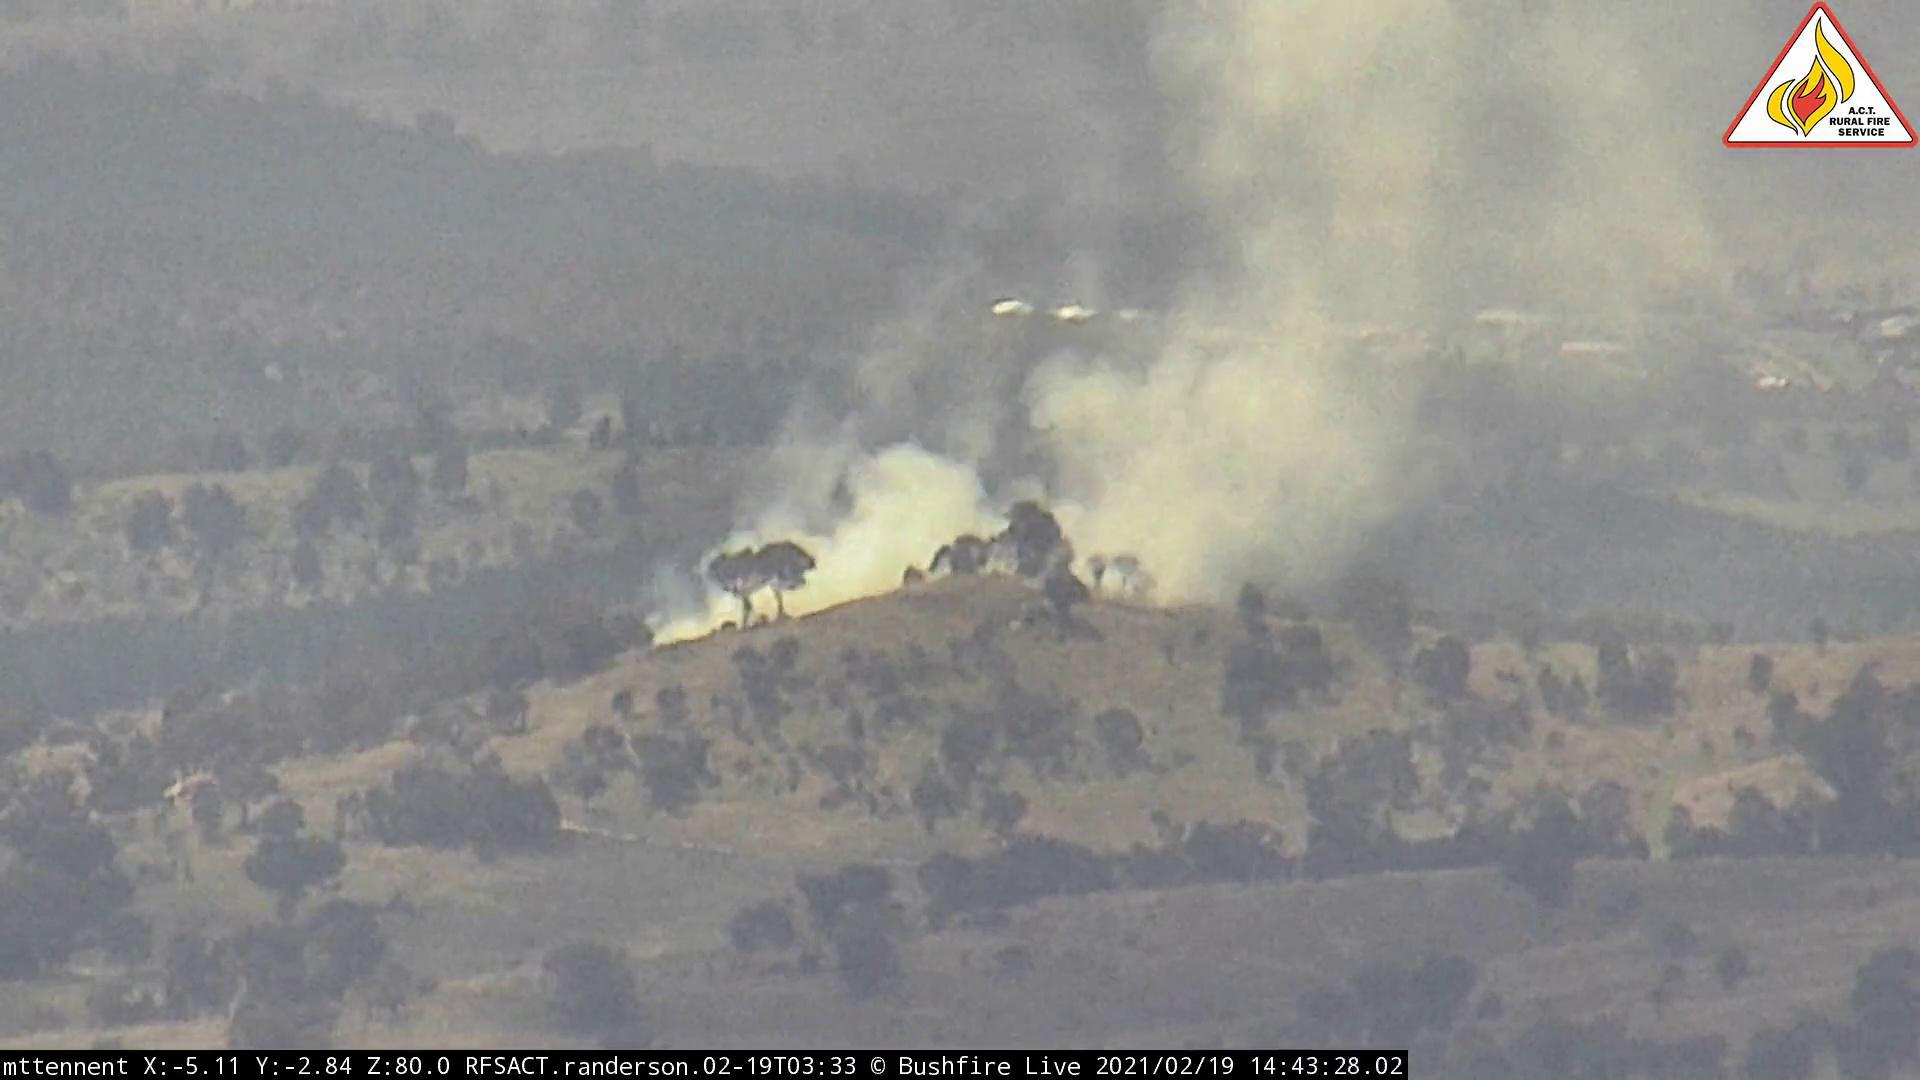Smoke: (644, 29, 1565, 655)
